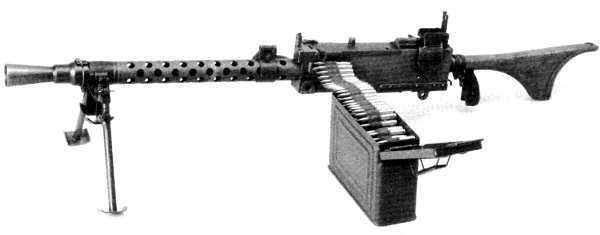gun: (3, 9, 596, 137)
